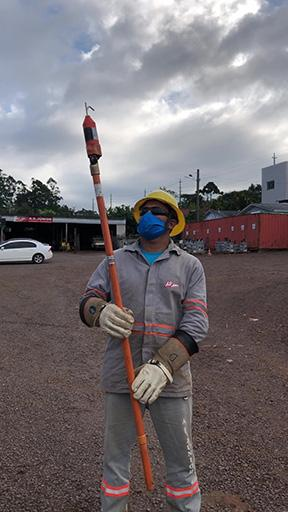Detector_Tensao_Contato: (81, 101, 102, 160)
Vara_Manobra: (88, 162, 154, 491)
